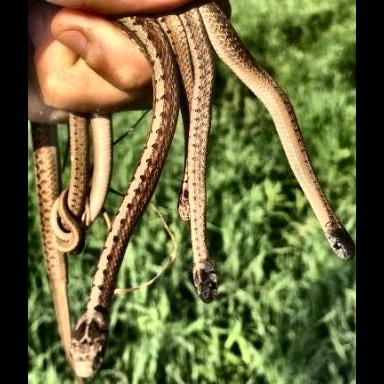snake: (29, 0, 354, 384)
